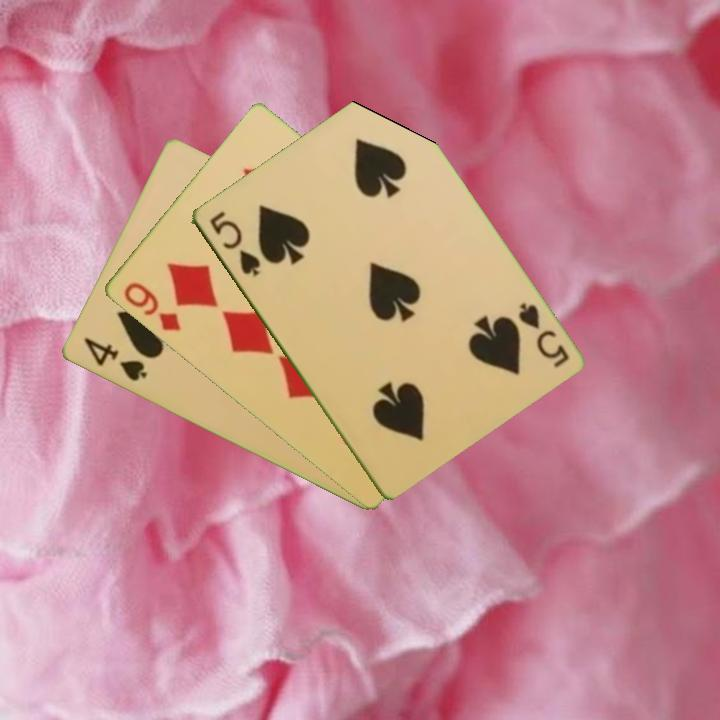4s: (79, 334, 149, 385)
5s: (205, 207, 263, 280), (514, 299, 571, 371)
9d: (119, 278, 183, 335)
